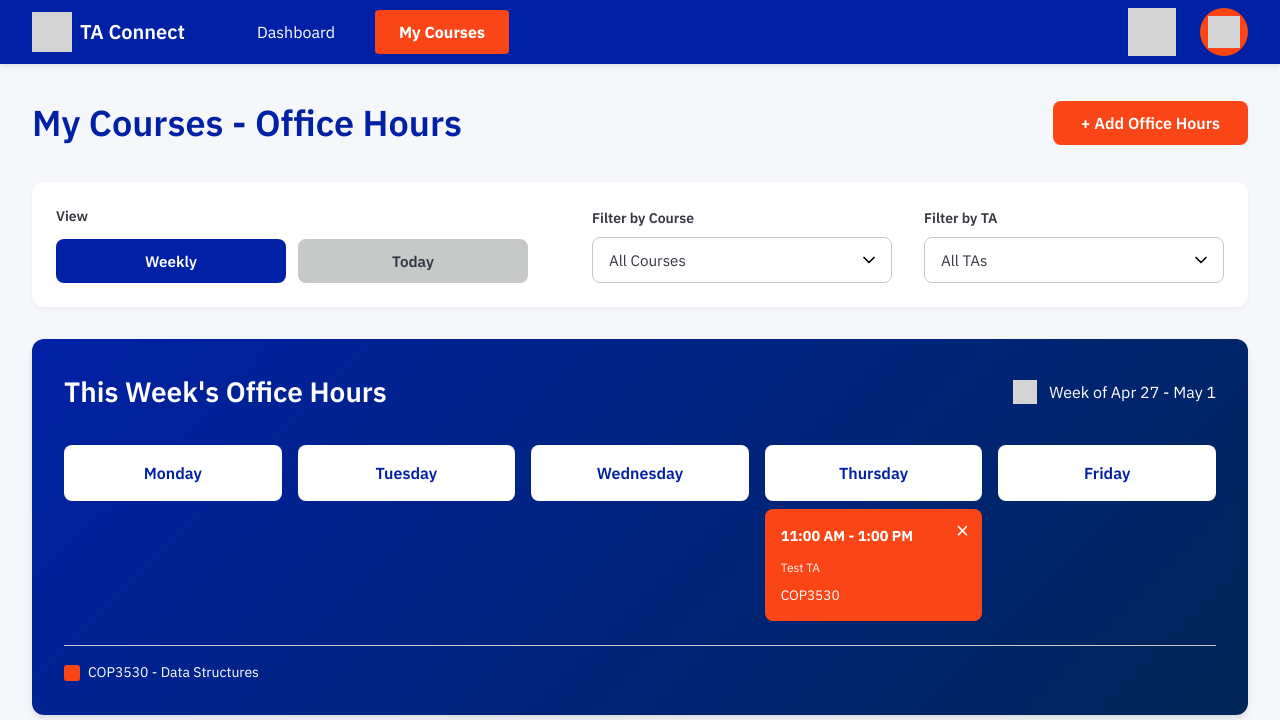
MyCoursesPage › closes modal when Cancel is clicked
The image size is (1280, 720).
expect the heading "This Week's Office Hours" is shown: met, box [64,371,387,413]
What coordinates should you click on to do the following:
click the button "+ Add Office Hours"
I would click on:
 (1150, 123)
Its box is [1053,101,1248,145].
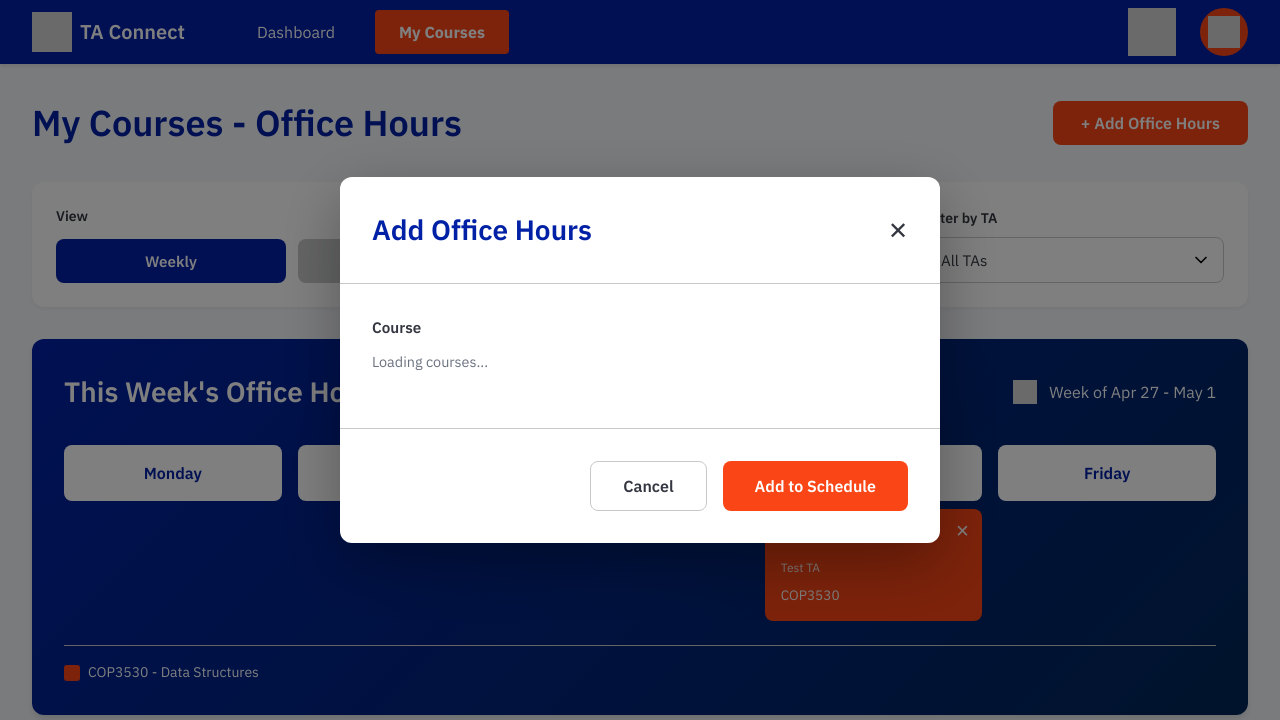
What coordinates should you click on to do the following:
click the button "Cancel"
I would click on:
 (648, 486)
Its box is [590,461,707,511].
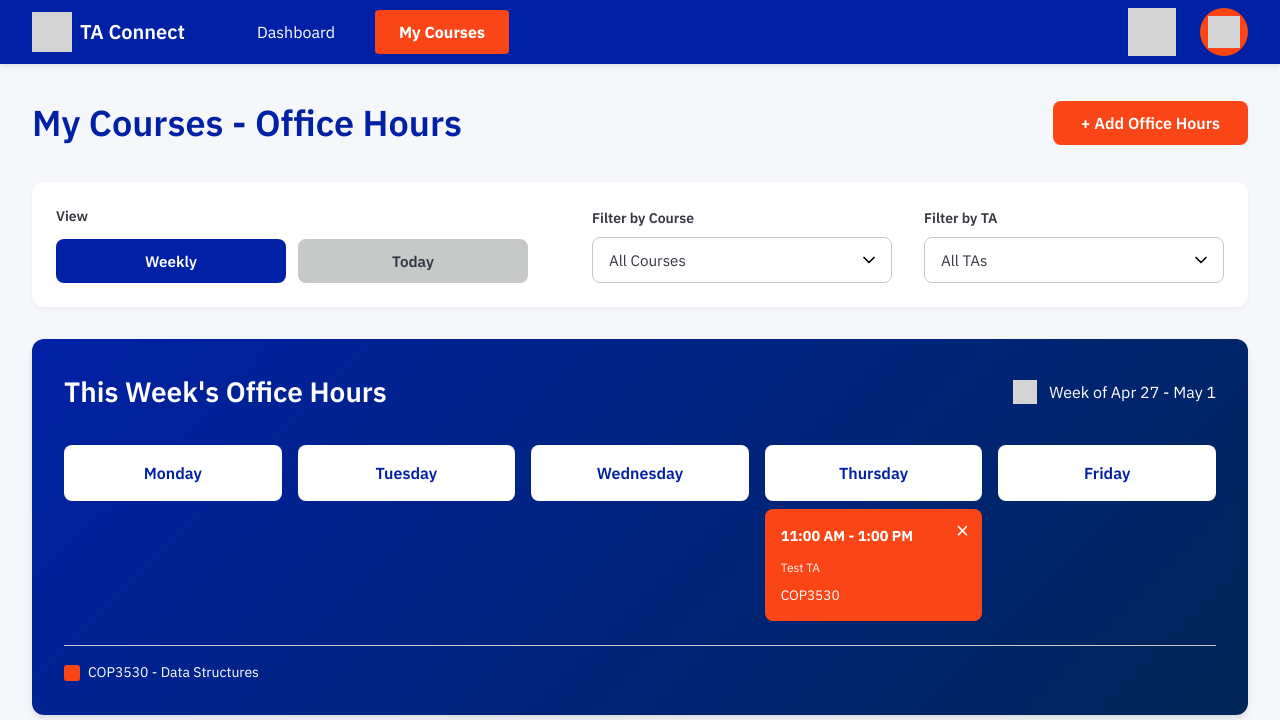
expect the button "Add to Schedule" is gone: met
